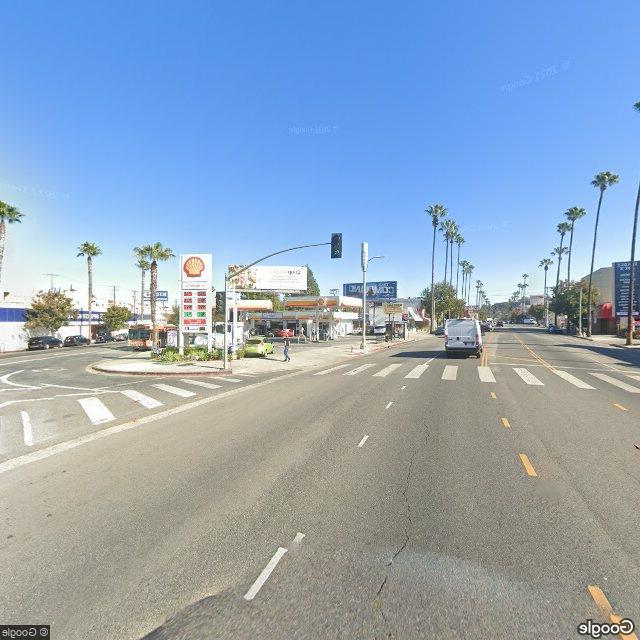pothole: (375, 410, 440, 625)
